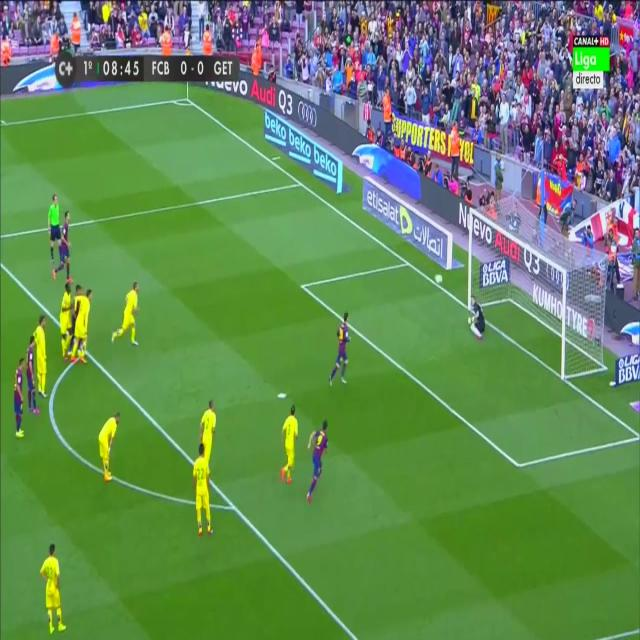Ball: (434, 270, 444, 286)
Goalkeeper: (466, 292, 486, 349)
Player: (39, 542, 67, 635), (109, 278, 142, 349), (191, 444, 214, 538), (69, 286, 95, 369), (306, 419, 330, 508), (326, 310, 352, 388), (97, 410, 121, 486), (279, 404, 300, 486), (32, 314, 50, 402), (51, 209, 73, 281), (25, 334, 41, 422), (11, 356, 27, 442), (58, 281, 73, 362), (200, 398, 218, 444)
Referee: (46, 190, 63, 266)
